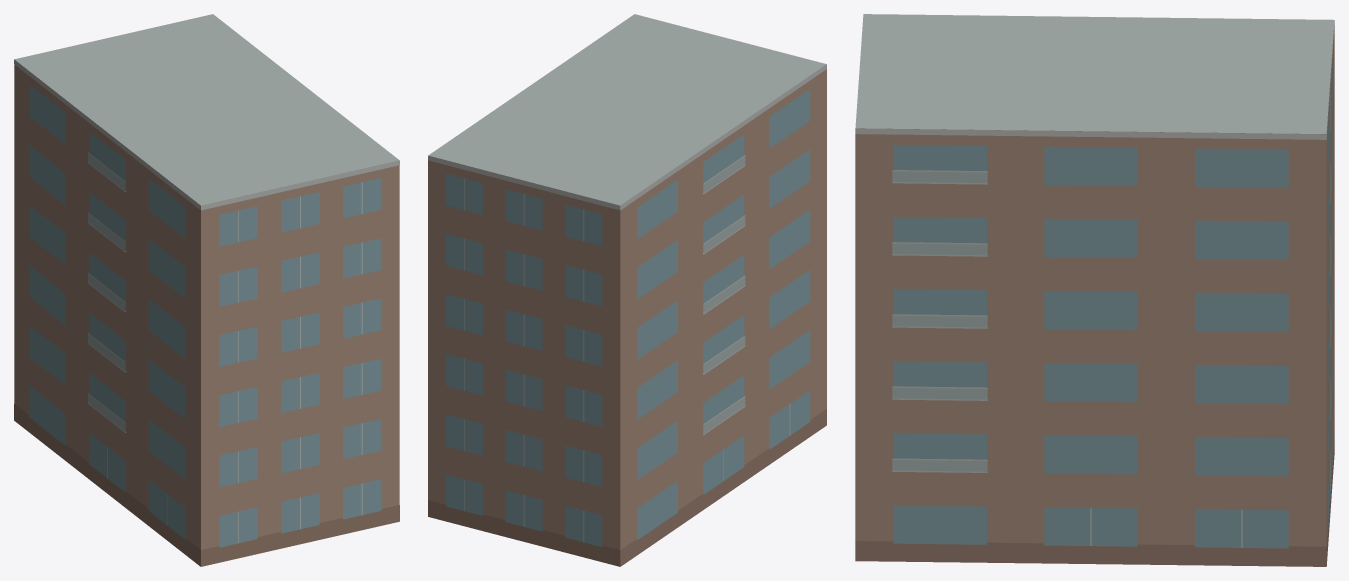
The model's file is survey-upis-32552403.glb.
3 views of the same model, side by side, from view 1: azimuth 30°, elevation 25°; view 2: azimuth 150°, elevation 25°; view 3: azimuth 270°, elevation 25° (orthographic). The views are drawn at different scales.
Parts seen in each view (by area): view 1: survey-upis-32552403.tmp; view 2: survey-upis-32552403.tmp; view 3: survey-upis-32552403.tmp.
Part boxes in pixels (x1,y1,x2,y2): survey-upis-32552403.tmp: (14,14,399,566); survey-upis-32552403.tmp: (428,14,826,566); survey-upis-32552403.tmp: (855,14,1334,566).
Bounding box in the file's own units: 10.9 × 18.3 × 18.37.
